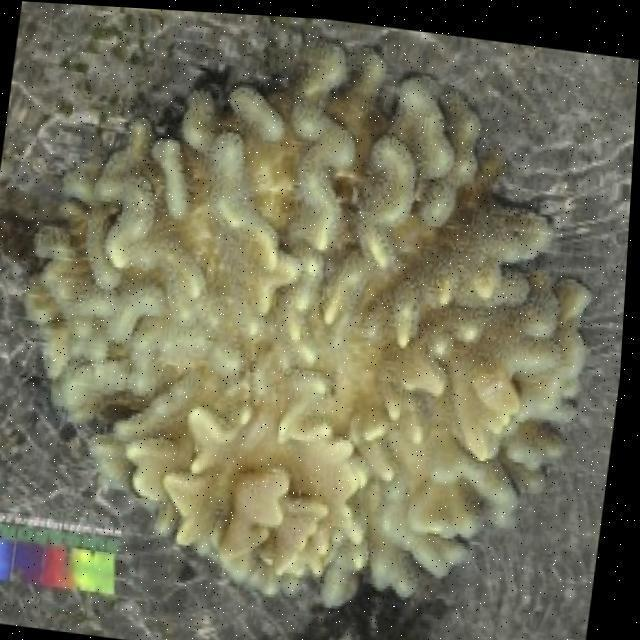Bleached Coral: (49, 51, 548, 532)
